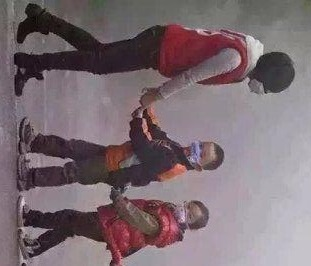person: (14, 2, 296, 112), (16, 105, 226, 193), (14, 191, 211, 263)
